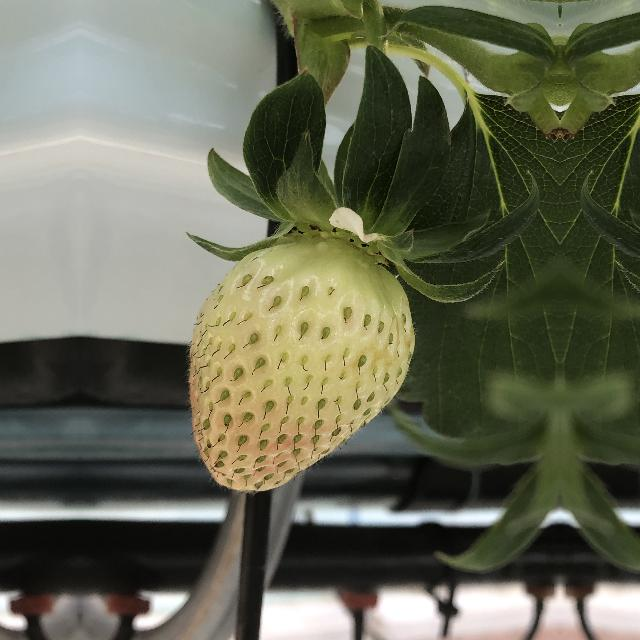Health_50: (183, 221, 417, 494)
